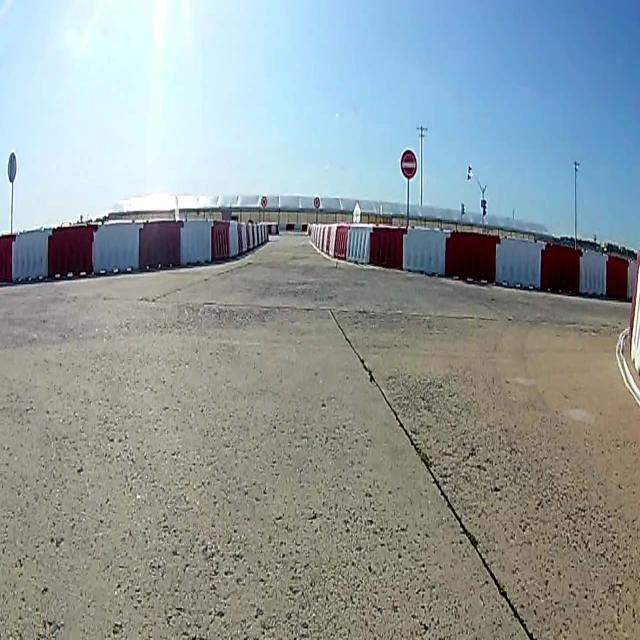girisyok: (399, 148, 417, 178)
